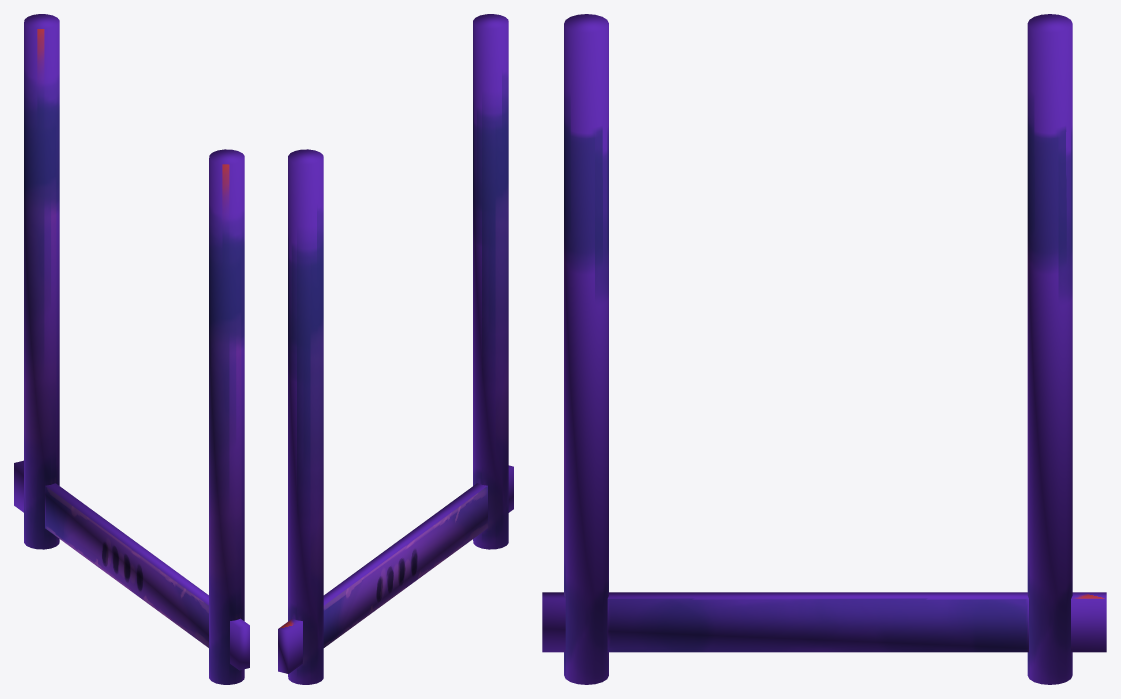
Rendered from Frame.fbx.
3 views of the same model, side by side, from view 1: azimuth 30°, elevation 25°; view 2: azimuth 150°, elevation 25°; view 3: azimuth 270°, elevation 25° (orthographic). The views are drawn at different scales.
Visible parts, largest first — view 1: Frame; view 2: Frame; view 3: Frame.
Part boxes in pixels (left/top/right/bottom): Frame: left=14, top=14, right=249, bottom=684; Frame: left=278, top=14, right=513, bottom=684; Frame: left=542, top=14, right=1106, bottom=684.
Size of the model in its own units: 75.42 by 945 by 1205.
